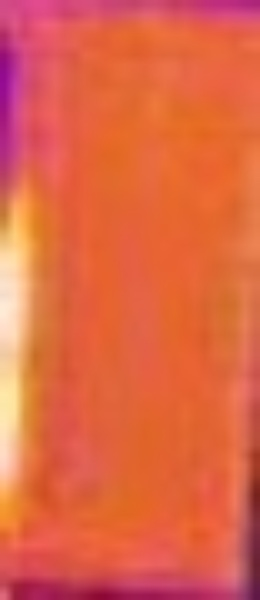Diode: (1, 163, 46, 505)
